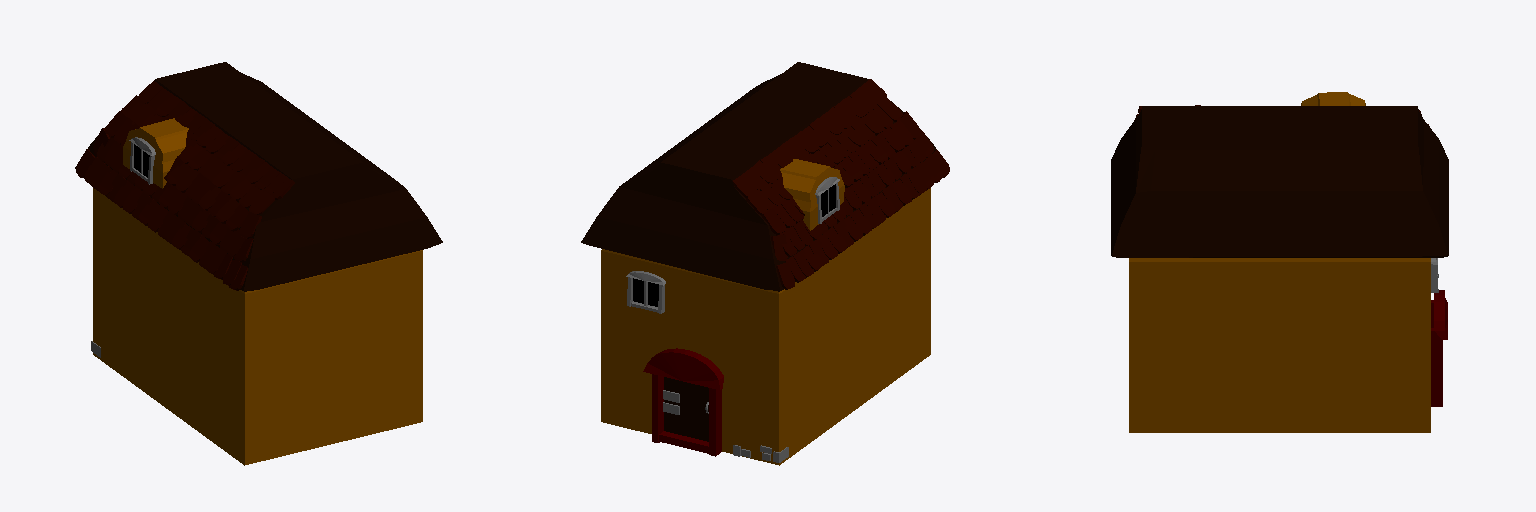
File: maya-house.obj
3 views of the same model, side by side, from view 1: azimuth 30°, elevation 25°; view 2: azimuth 150°, elevation 25°; view 3: azimuth 270°, elevation 25° (orthographic).
Visible parts, largest first — view 1: house, roof, littlewindow; view 2: house, roof, door_back_plane door_frame_and_plane, littlewindow, door_frame_and_plane pCylinder1 door_frame, door_frame_and_plane door_frame pCube3, door_frame_and_plane door_frame pCube2, door_frame_and_plane door_frame pCube2 pCube4; view 3: house, roof, door_frame_and_plane door_frame pCube2, littlewindow, door_frame_and_plane pCylinder1 door_frame.
Part boxes in pixels (x1,y1,x2,y2): house: (93,188,422,465); roof: (75,62,442,291); littlewindow: (123,118,188,188); house: (601,188,930,465); roof: (581,62,935,291); door_back_plane door_frame_and_plane: (664,377,708,441); littlewindow: (780,159,844,230); door_frame_and_plane pCylinder1 door_frame: (643,348,723,389); door_frame_and_plane door_frame pCube3: (709,388,721,456); door_frame_and_plane door_frame pCube2: (652,374,663,442); door_frame_and_plane door_frame pCube2 pCube4: (659,431,708,453); house: (1129,258,1430,432); roof: (1111,106,1448,257); door_frame_and_plane door_frame pCube2: (1431,328,1442,406); littlewindow: (1301,92,1365,105); door_frame_and_plane pCylinder1 door_frame: (1434,290,1447,339).
Size of the model in its own units: 3.81 by 4.72 by 5.38.